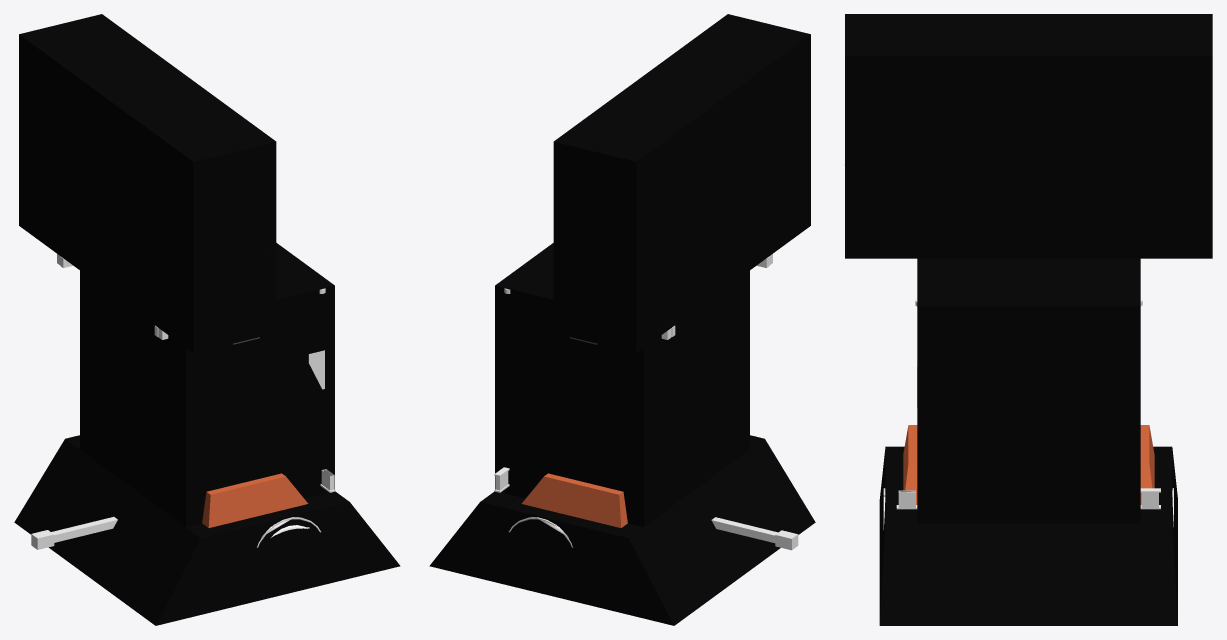
File: arrowboard_l.dae
3 views of the same model, side by side, from view 1: azimuth 30°, elevation 25°; view 2: azimuth 150°, elevation 25°; view 3: azimuth 270°, elevation 25° (orthographic). The views are drawn at different scales.
Parts seen in each view (by area): view 1: Colmesh_s_arrowboard_L-1, s_arrowboard_L_L25, s_arrowboard_L_L150; view 2: Colmesh_s_arrowboard_L-1, s_arrowboard_L_L25, s_arrowboard_L_L150; view 3: Colmesh_s_arrowboard_L-1, s_arrowboard_L_L25, s_arrowboard_L_L150.
Boxes of the visible parts, x1,y1,x2,y2 form: Colmesh_s_arrowboard_L-1: (14,14,400,625); s_arrowboard_L_L25: (202,337,308,527); s_arrowboard_L_L150: (32,254,335,549); Colmesh_s_arrowboard_L-1: (429,14,815,625); s_arrowboard_L_L25: (521,337,627,527); s_arrowboard_L_L150: (494,254,797,549); Colmesh_s_arrowboard_L-1: (845,14,1212,625); s_arrowboard_L_L25: (844,164,1154,504); s_arrowboard_L_L150: (883,299,1173,529).
Size of the model in its own units: 2.41 by 2.47 by 3.68.
